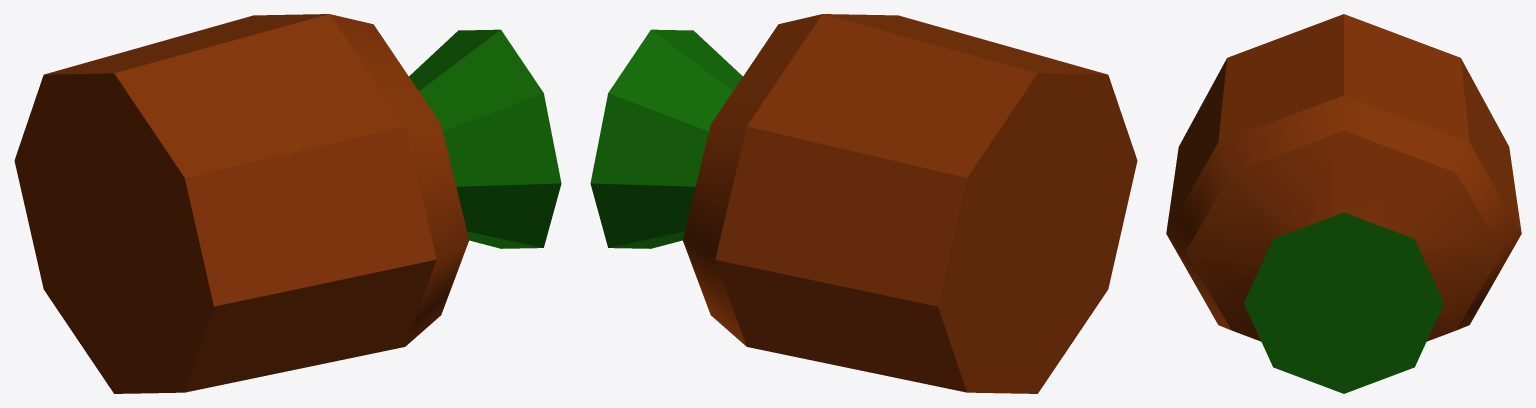
File: carrot_3.obj
3 renders of one model, left to right at view 1: azimuth 30°, elevation 25°; view 2: azimuth 150°, elevation 25°; view 3: azimuth 270°, elevation 25°, orthographic. The views are drawn at different scales.
Size of the model in its own units: 2.89 by 2.39 by 2.78.
